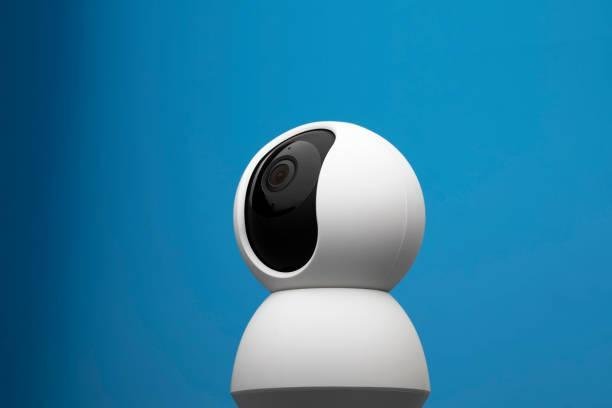camera: (197, 97, 471, 408)
